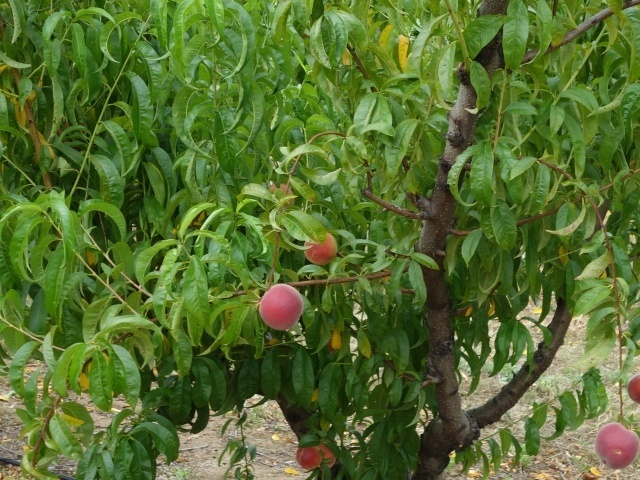peach: (257, 277, 306, 333), (592, 420, 639, 473), (301, 229, 339, 268), (267, 180, 298, 212), (293, 438, 323, 471), (313, 436, 341, 469)
